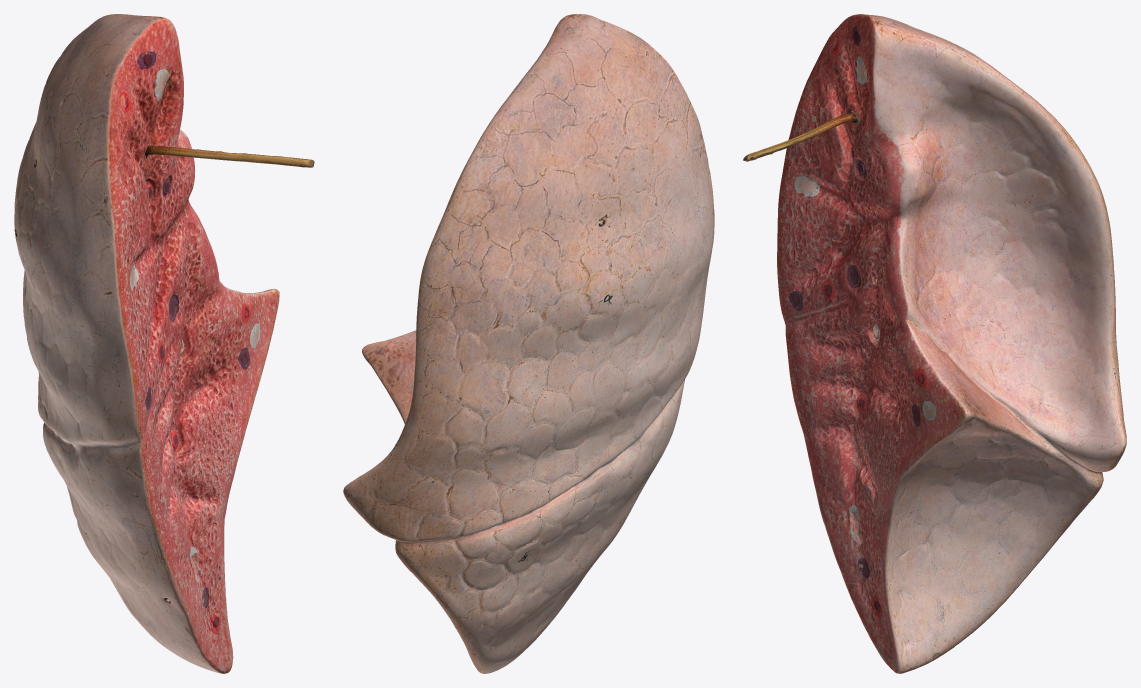
Rendered from lungs_dis.glb.
The picture shows the model from 3 angles, left to right: view 1: azimuth 30°, elevation 25°; view 2: azimuth 150°, elevation 25°; view 3: azimuth 270°, elevation 25°; orthographic projection. The views are drawn at different scales.
Parts seen in each view (by area): view 1: Object_2; view 2: Object_2; view 3: Object_2.
Part boxes in pixels (x1,y1,x2,y2): Object_2: [14, 14, 314, 673]; Object_2: [343, 14, 714, 673]; Object_2: [743, 14, 1126, 673].
Bounding box in the file's own units: 0.1387 × 0.3234 × 0.1819.
Materials: 1 (1 with a texture image).
